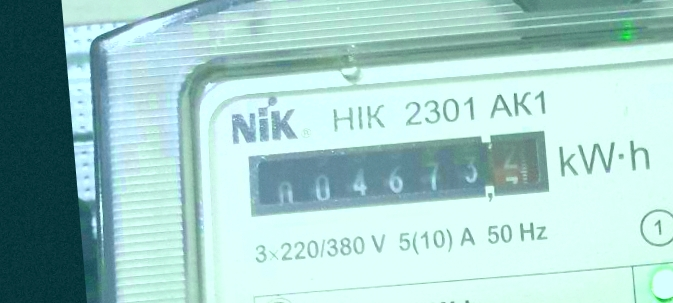0: (310, 170, 331, 203), (273, 176, 295, 207)
2: (497, 138, 520, 172)
3: (459, 151, 479, 186)
4: (348, 163, 369, 200)
6: (382, 160, 406, 196)
7: (420, 157, 445, 196)
screen: (240, 125, 555, 227)
